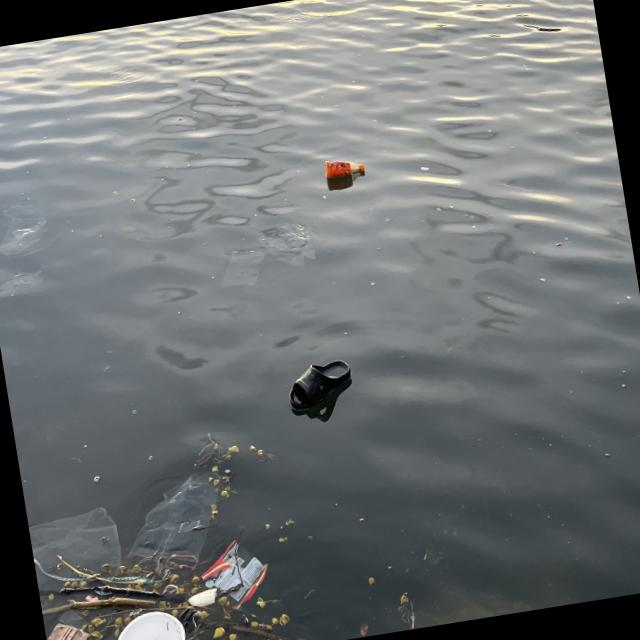foam: (111, 608, 191, 640)
plastic bag: (196, 540, 269, 604)
plastic bottle: (324, 156, 365, 181)
